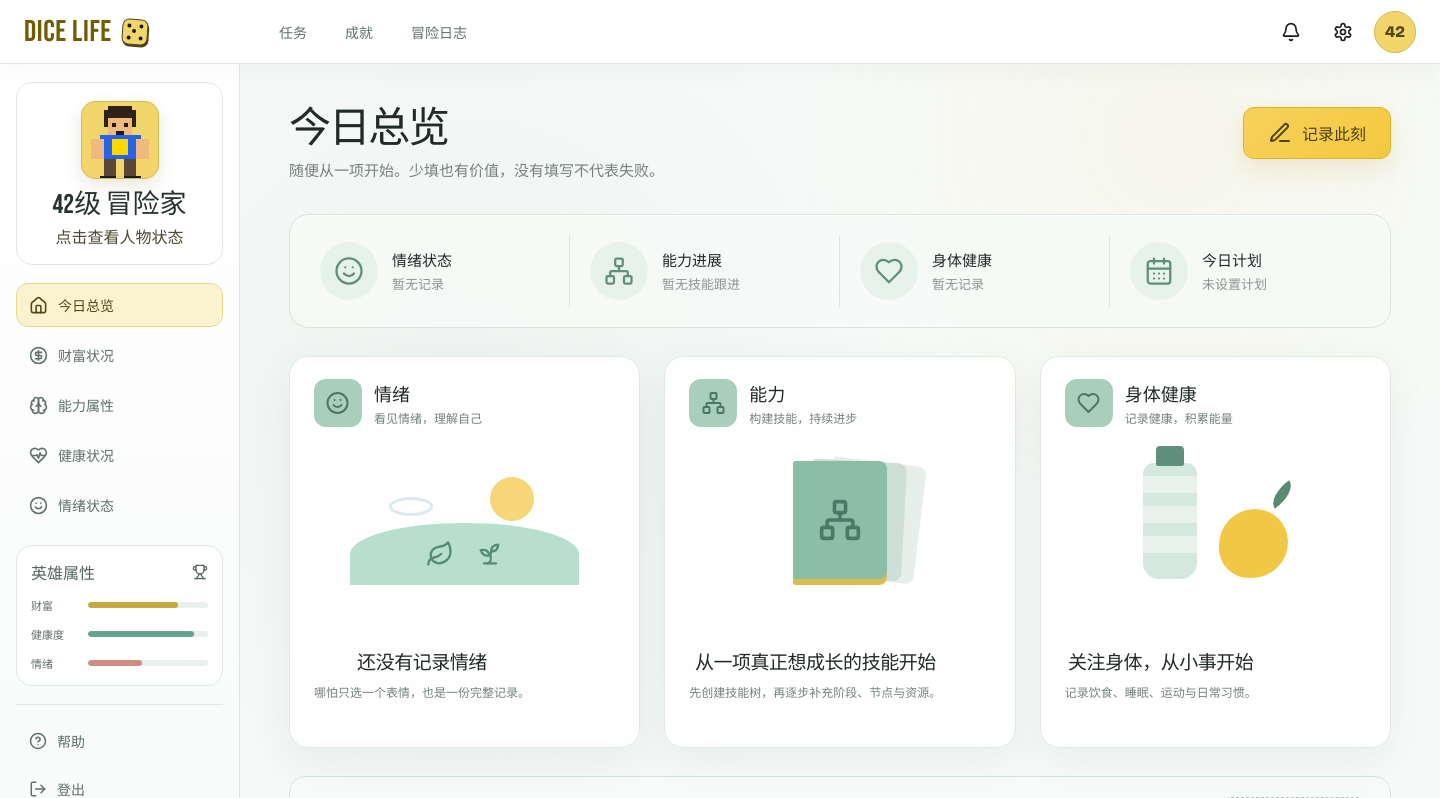
Test: Dice Life emotion navigation › 从侧栏进入真实情绪模块而不是通用占位页
This screenshot has width=1440, height=798.
Click the button "情绪状态" at (120, 505), box [16,483,223,527]
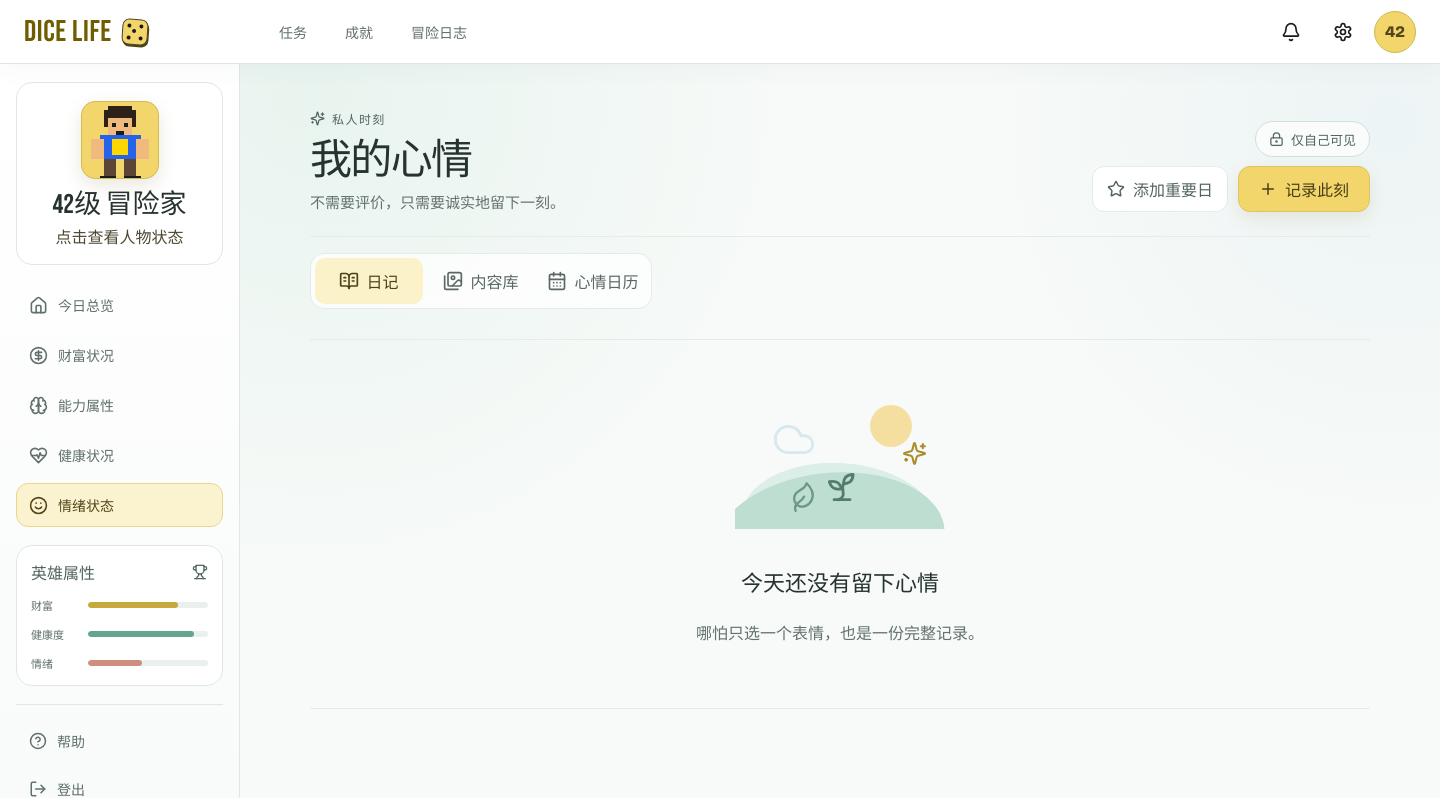
Check: the heading "我的心情" is shown, box [310,135,471,185]
